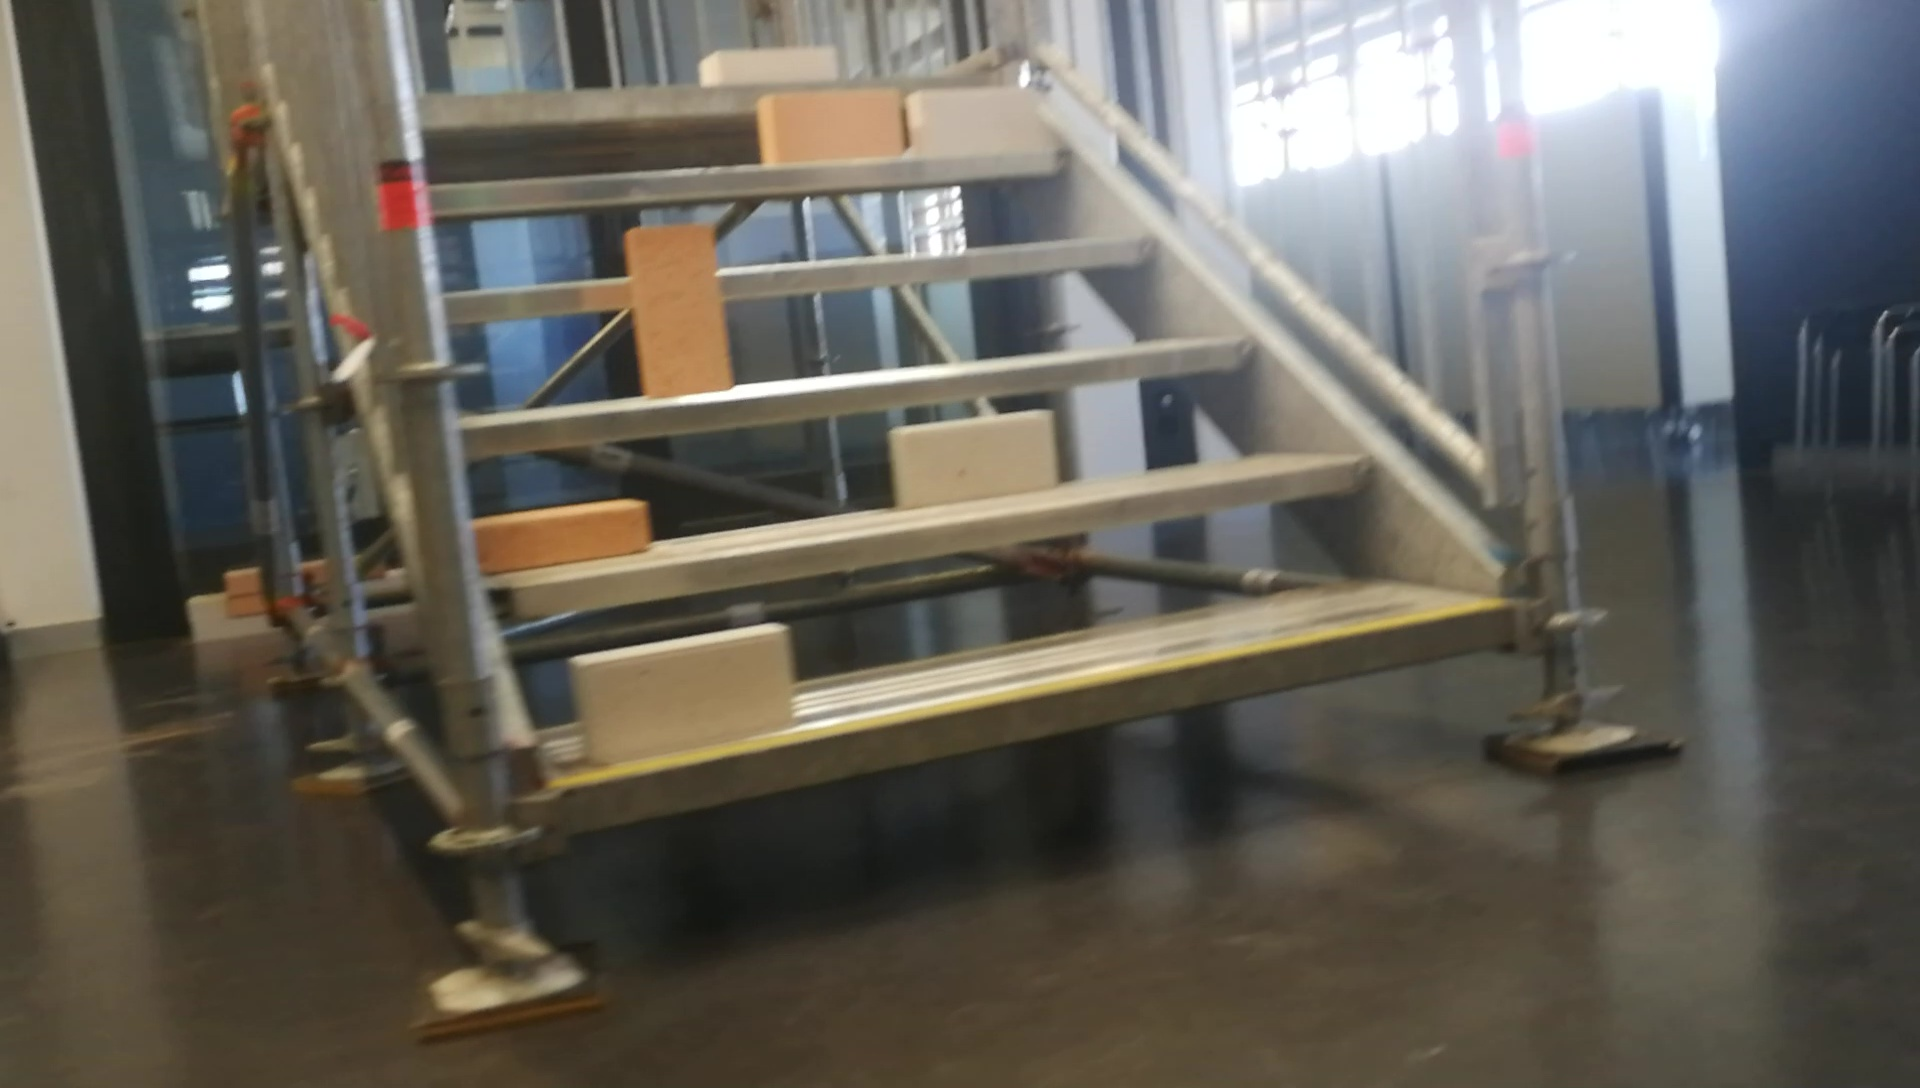brick: (567, 622, 785, 760), (625, 226, 731, 396), (891, 408, 1052, 508), (468, 497, 647, 567), (761, 90, 895, 158), (907, 88, 1029, 150), (698, 51, 835, 83)
edge: (550, 601, 1518, 832), (488, 462, 1373, 619), (462, 338, 1258, 450), (440, 233, 1159, 320), (427, 142, 1060, 214), (413, 73, 1004, 127)
stairs: (405, 3, 1683, 1033)
steps: (405, 41, 1534, 848)
